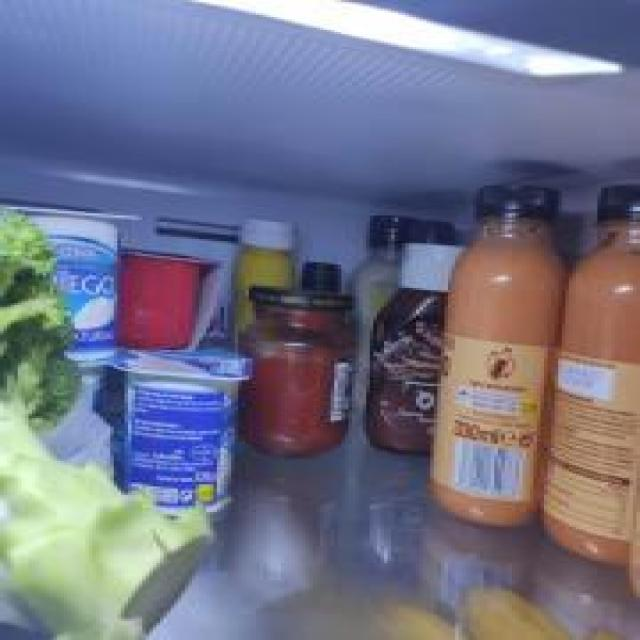banana: (458, 580, 580, 640), (366, 597, 469, 640), (583, 623, 637, 640)
broccoli: (0, 205, 213, 638)
tomato_sauce: (233, 287, 361, 460)
yogurt: (106, 347, 260, 526), (0, 201, 139, 369), (117, 248, 224, 346)
